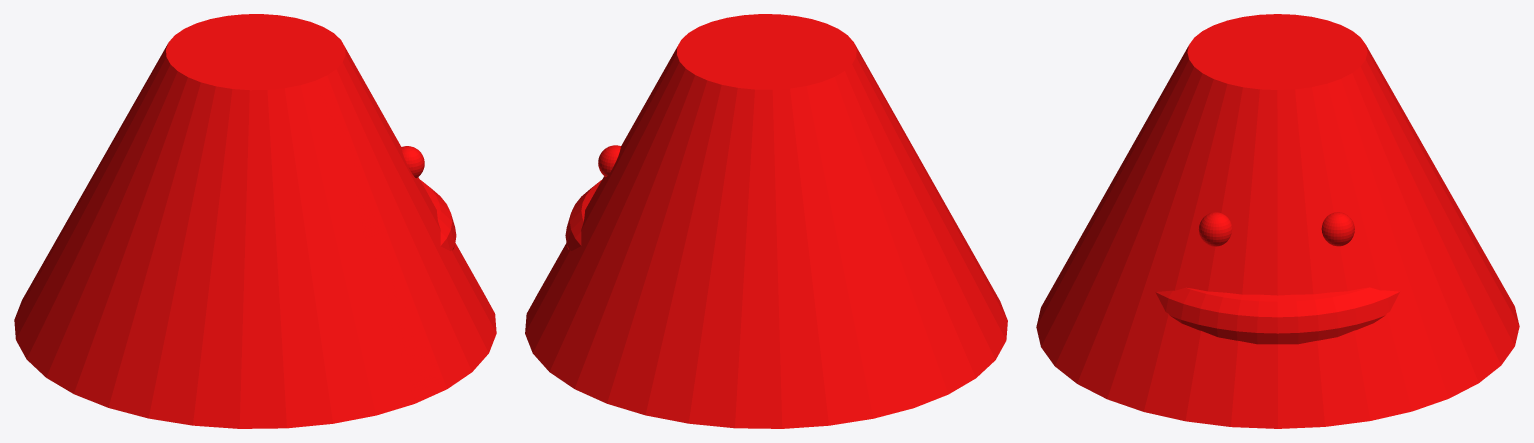
File: redMountain.fbx
3 views of the same model, side by side, from view 1: azimuth 30°, elevation 25°; view 2: azimuth 150°, elevation 25°; view 3: azimuth 270°, elevation 25° (orthographic).
Parts seen in each view (by area): view 1: トーラス; view 2: トーラス; view 3: トーラス.
Boxes of the visible parts, <box> form: トーラス: <box>14,14,496,428</box>; トーラス: <box>525,14,1007,428</box>; トーラス: <box>1036,14,1519,428</box>.
Bounding box in the file's own units: 380 × 239 × 380.
1 material, 1 textured.
